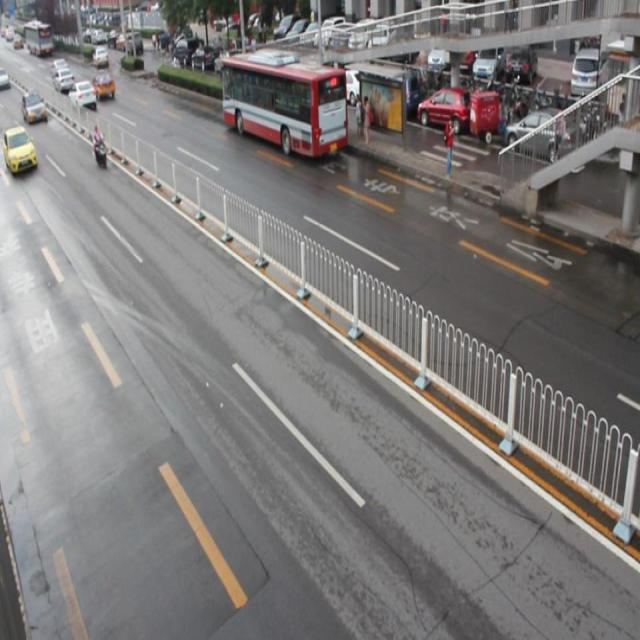van: (222, 52, 345, 159)
